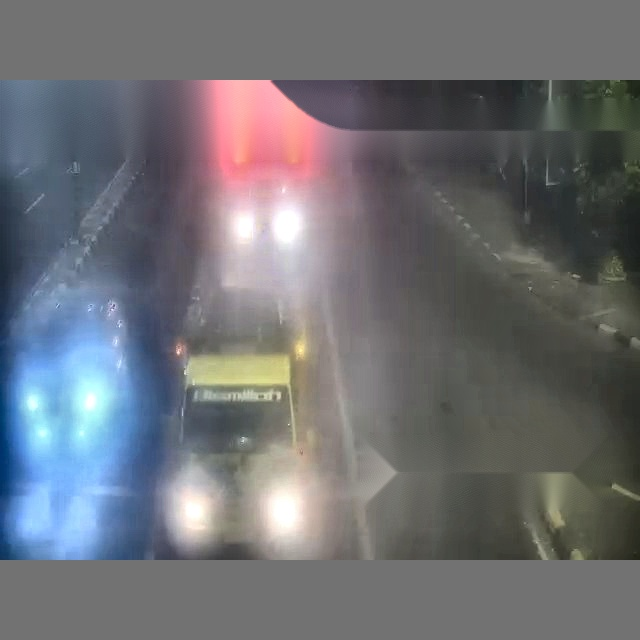Mobil: (0, 192, 160, 558)
